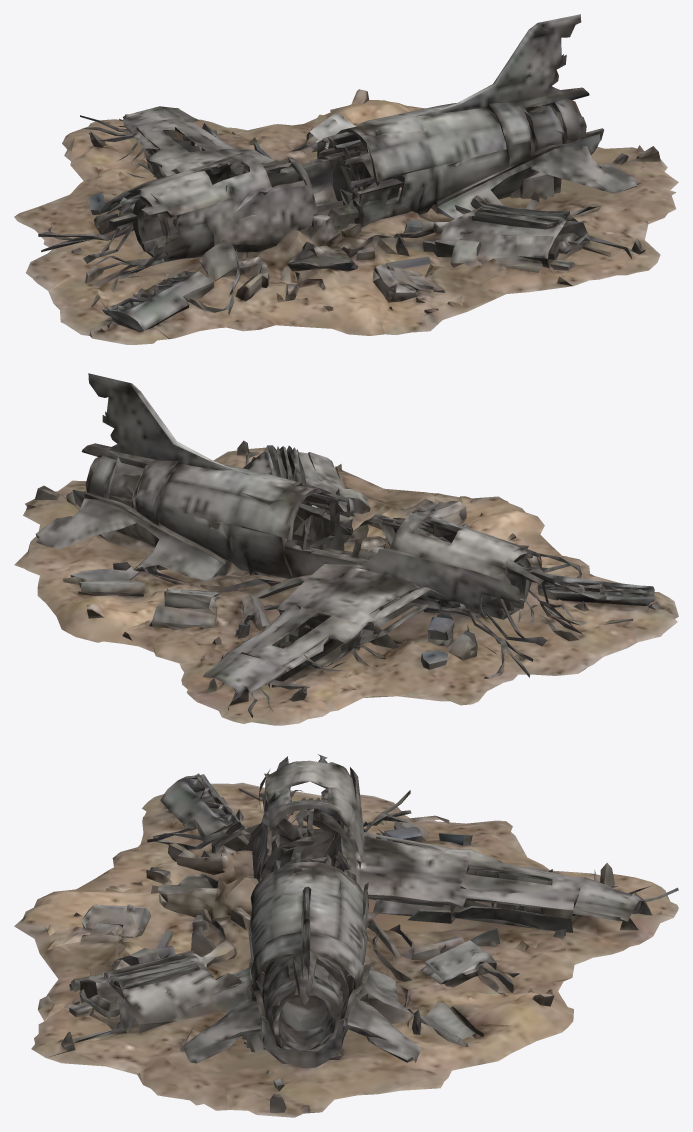
Rendered from decor.ship_scrap.glb.
The picture shows the model from 3 angles, top to bottom: view 1: azimuth 30°, elevation 25°; view 2: azimuth 150°, elevation 25°; view 3: azimuth 270°, elevation 25°; orthographic projection. The views are drawn at different scales.
Parts seen in each view (by area): view 1: body; view 2: body; view 3: body.
Boxes of the visible parts, bbox=[...] form: body: bbox=[14, 14, 678, 344]; body: bbox=[14, 373, 678, 725]; body: bbox=[14, 754, 678, 1117].
Size of the model in its own units: 1.8 by 0.4612 by 1.51.
Materials: 1 (1 with a texture image).
